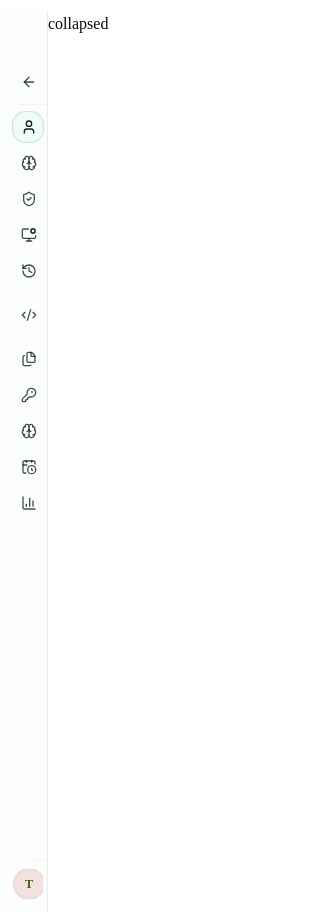
SettingsSidebar collapsed rail behavior › expands the collapsed settings rail when a settings nav icon is clicked
Check: the text with test id "settings-sidebar-state" reads "collapsed", box x1=48 y1=15 x2=108 y2=32
Step 1. Click the 1st link named "프로필" → [28, 127], box x1=12 y1=111 x2=44 y2=143
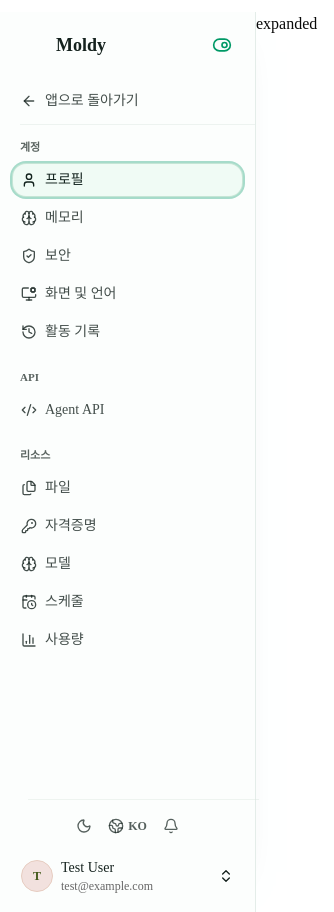
Check: the text with test id "settings-sidebar-state" reads "expanded", box x1=256 y1=15 x2=317 y2=32
